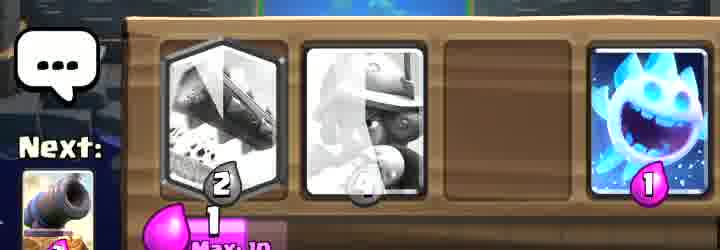cannon: (21, 171, 94, 250)
ice-spirit: (595, 45, 710, 200)
